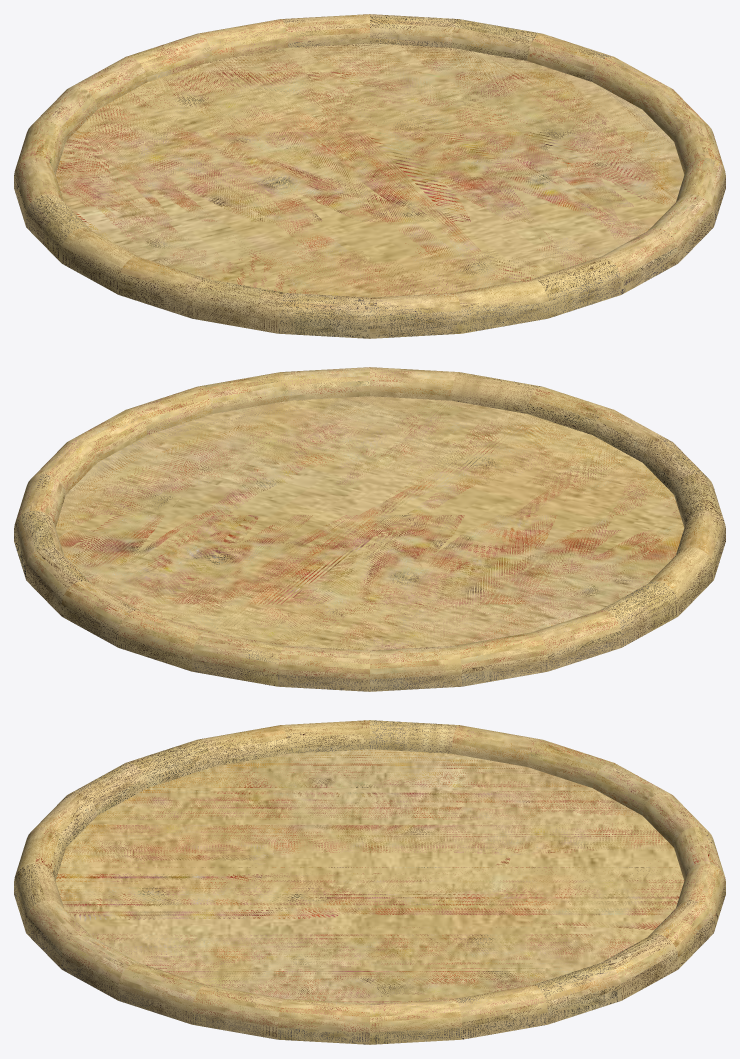
File: pizza.dae
The picture shows the model from 3 angles, top to bottom: view 1: azimuth 30°, elevation 25°; view 2: azimuth 150°, elevation 25°; view 3: azimuth 270°, elevation 25°; orthographic projection.
Parts seen in each view (by area): view 1: SketchUp (×2); view 2: SketchUp (×2); view 3: SketchUp (×2).
Part boxes in pixels (x1,y1,x2,y2): SketchUp (×2): (14,14,725,338); SketchUp (×2): (14,367,725,691); SketchUp (×2): (14,720,725,1044).
Bounding box in the file's own units: 26.5 × 26.5 × 1.26.
Materials: 3 (3 with a texture image).
